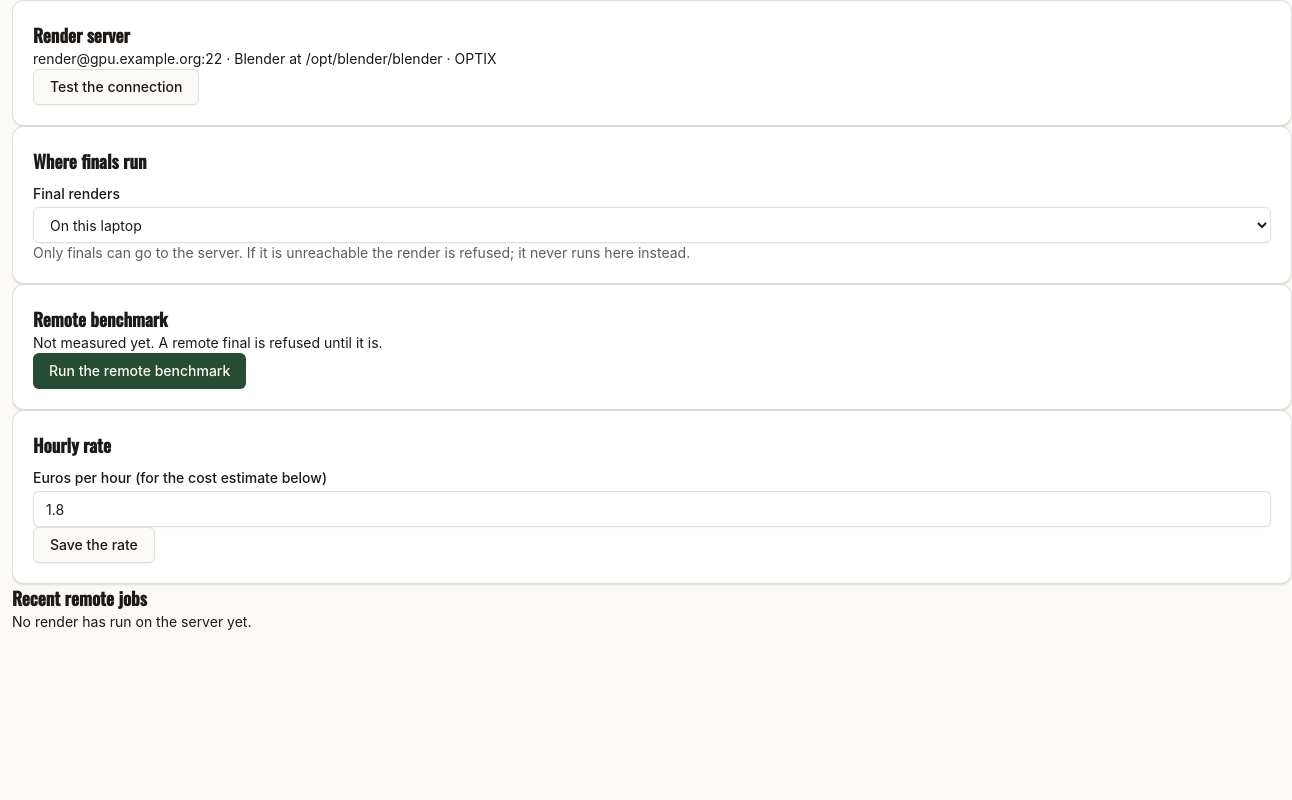
Test: a connection test shows reachability, version and GPUs
This screenshot has width=1292, height=800.
Click the button "Test the connection". click: point(116, 87)
box: 33,69 -> 199,105
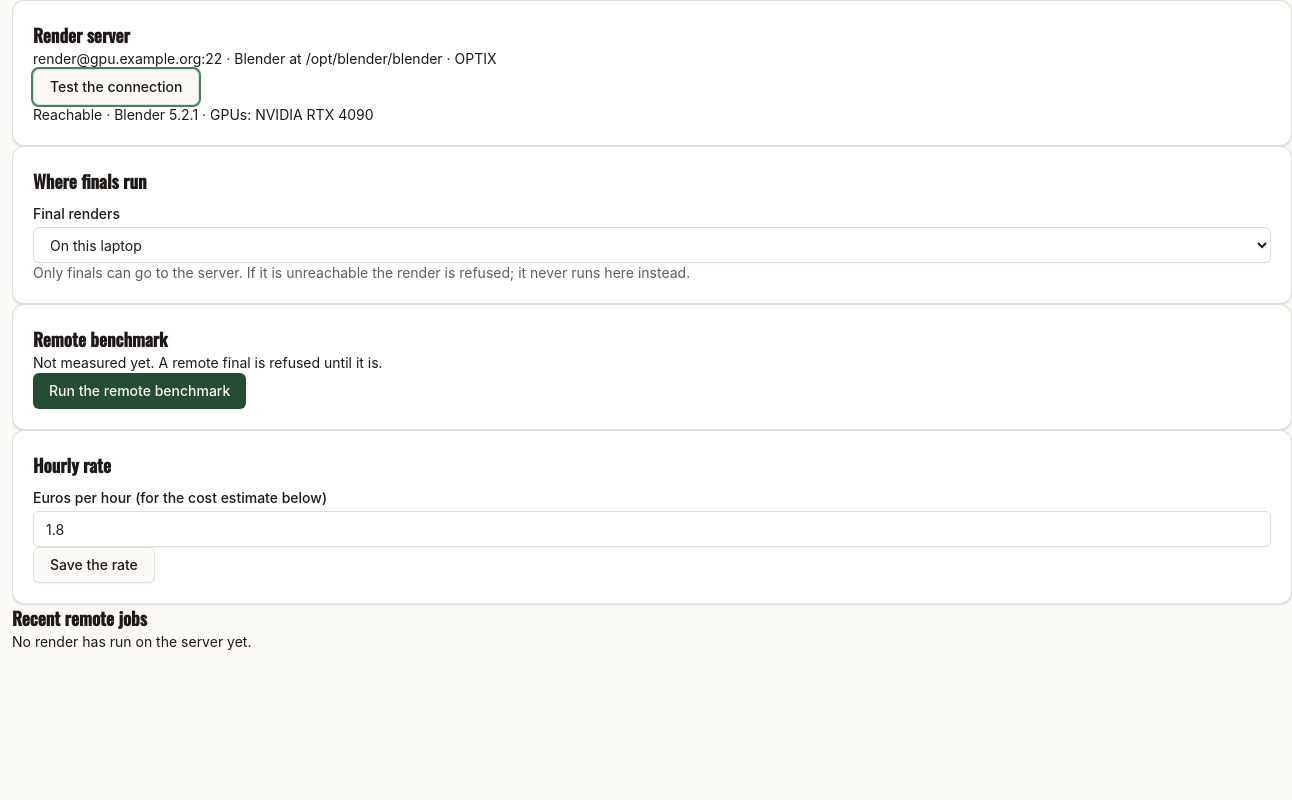
Check: the text "Reachable · Blender 5.2.1 · GPUs: NVIDIA RTX 4090" is shown, box 33,106 -> 374,123
